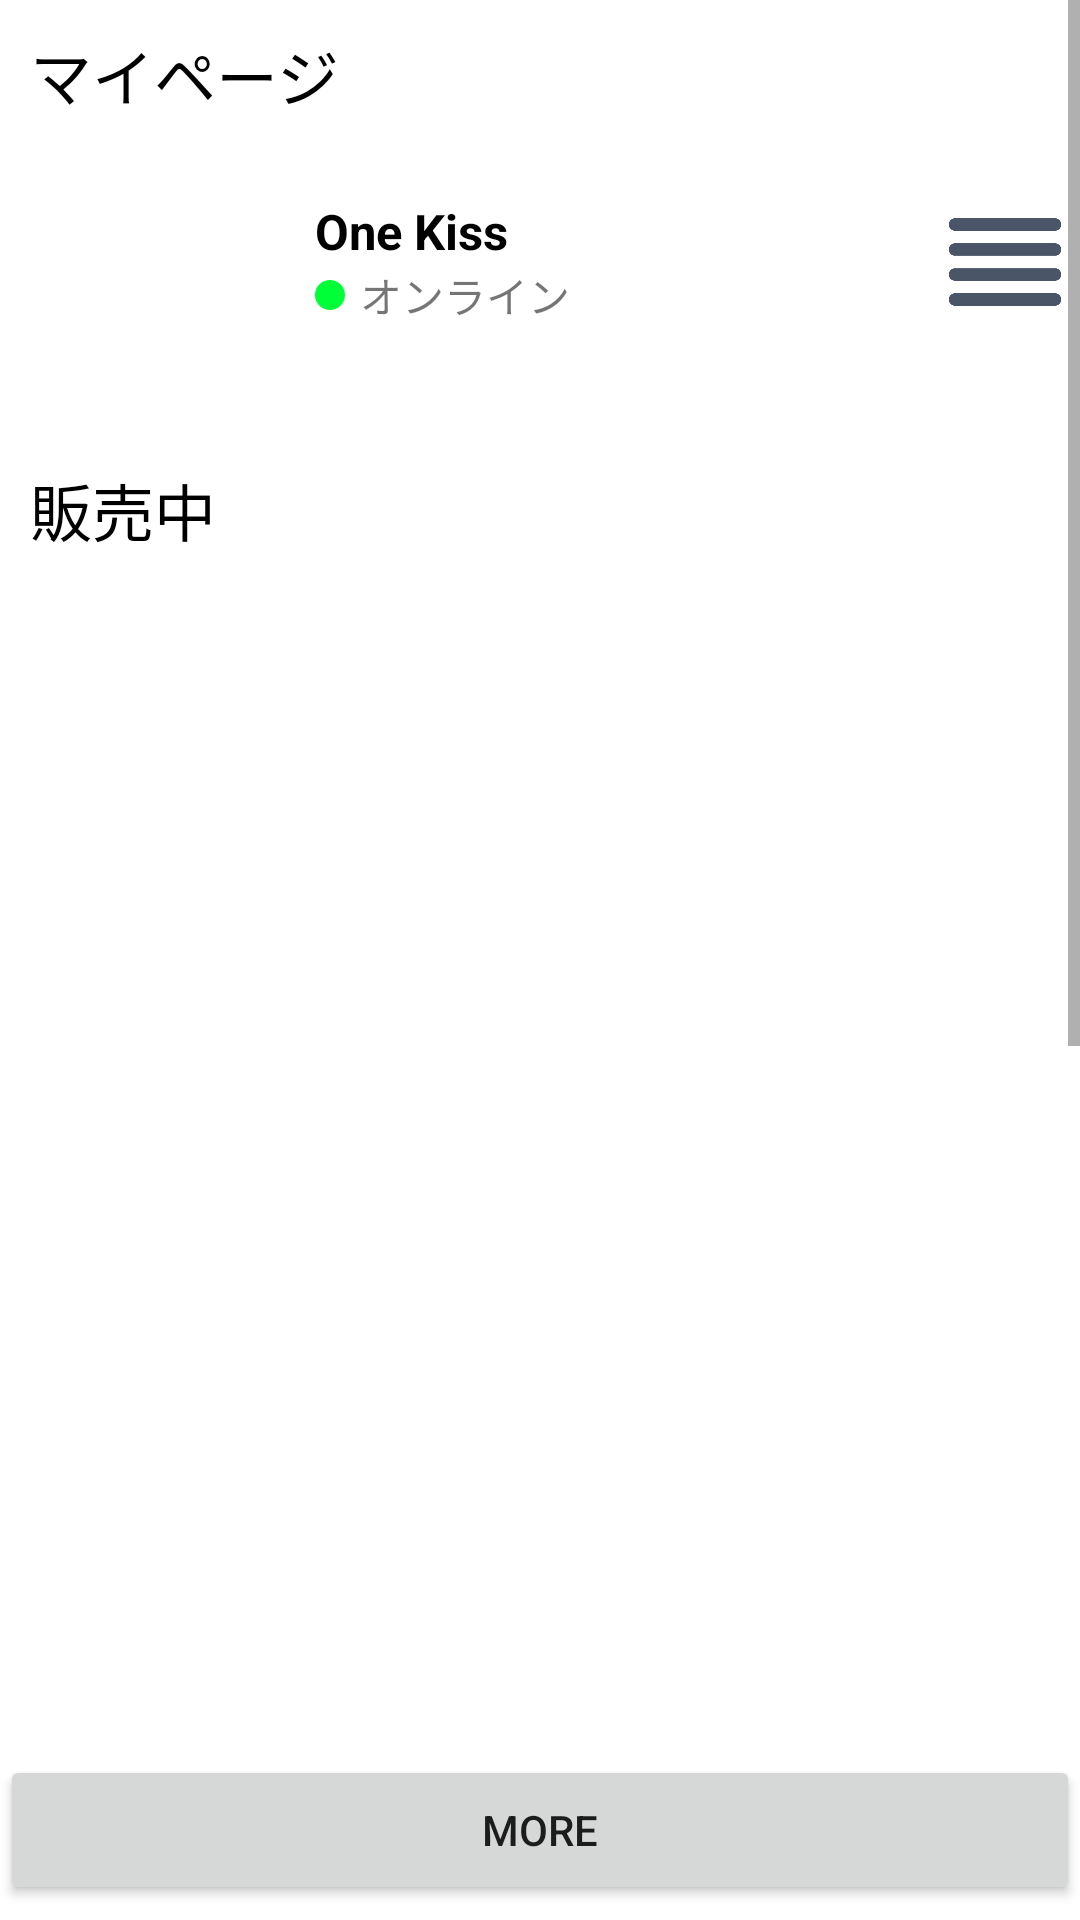

Screen size 1080*1920. Icon name, then its box in pixels as (x1, y1, x2, y2):
mypage setting: (949, 218, 1061, 306)
